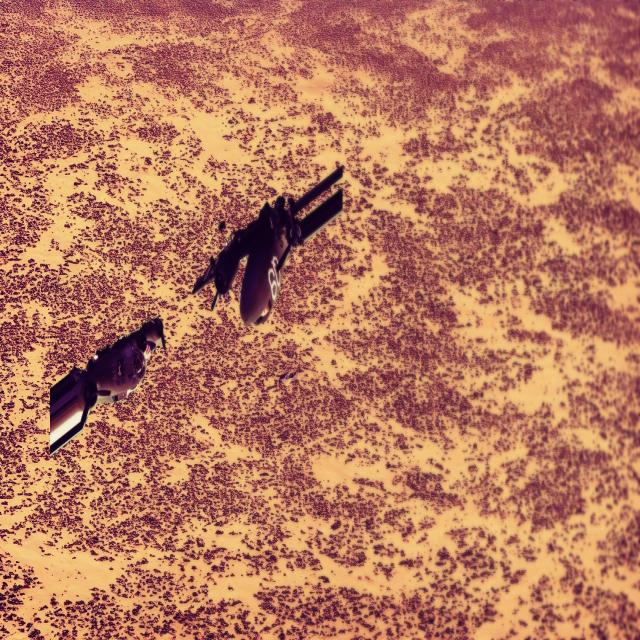airplane: (191, 162, 345, 326), (48, 314, 166, 457)
